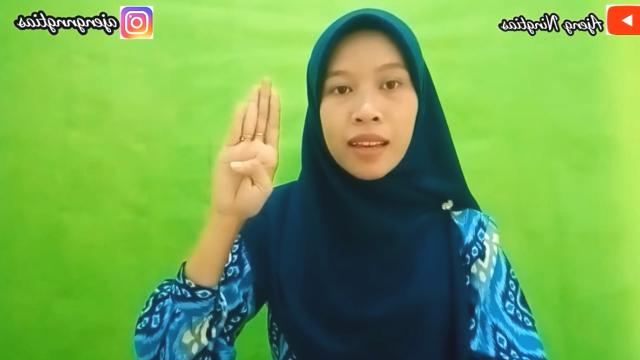B: (210, 75, 284, 221)
